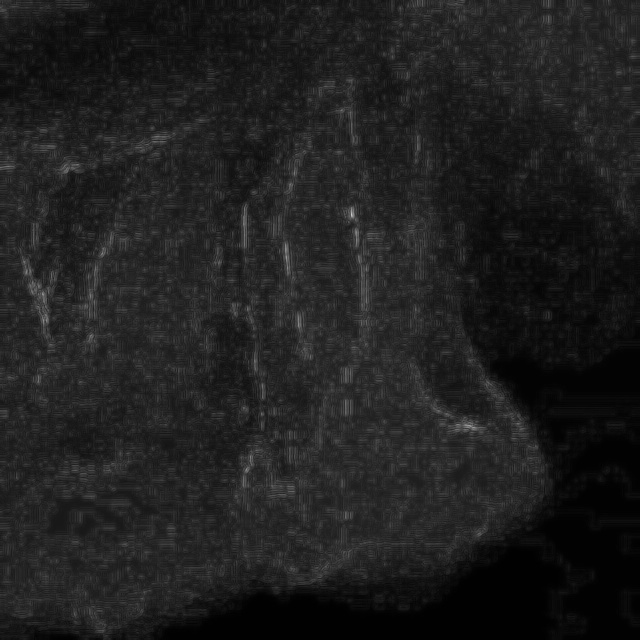Class 0- No endodontic treatment: (198, 45, 570, 591)
